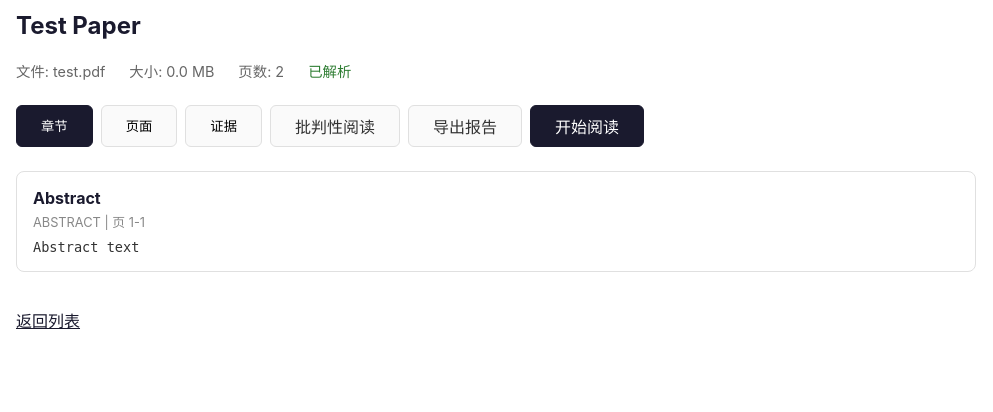
Scenario: PaperDetailView › page API failure: click retry restores page
Click the button "页面".
click(139, 126)  # box [101,105,177,147]
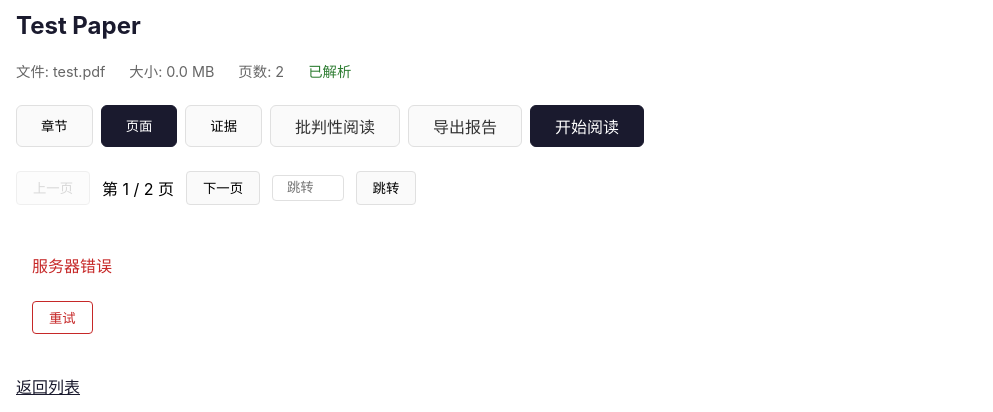
Now the element with class "error-msg" is shown, box [32,256,112,334]
Now the text "服务器错误" is shown, box [32,256,112,276]
Now the button with class "retry-btn" is shown
Click the button with class "retry-btn".
click(62, 318)  # box [32,301,93,334]
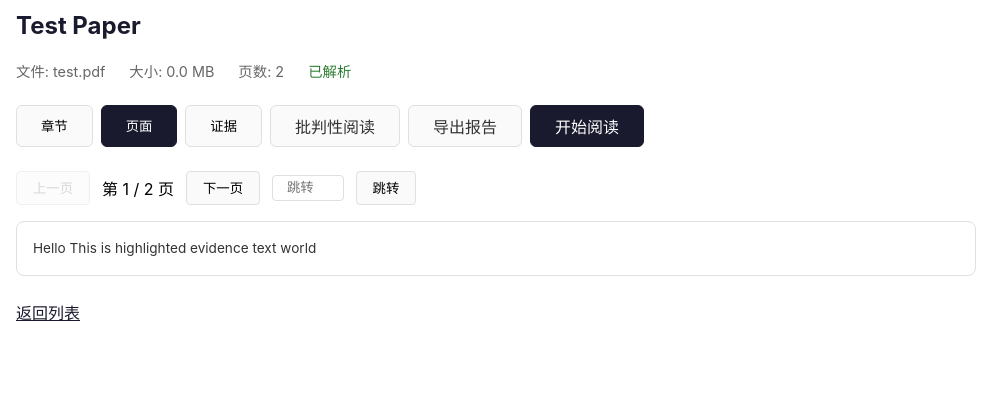
Now the element showing "Hello This is highlighted evidence text world" is shown, box [16,221,976,276]
